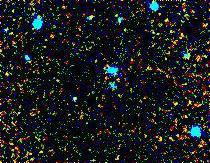star: (184, 45, 210, 75)
